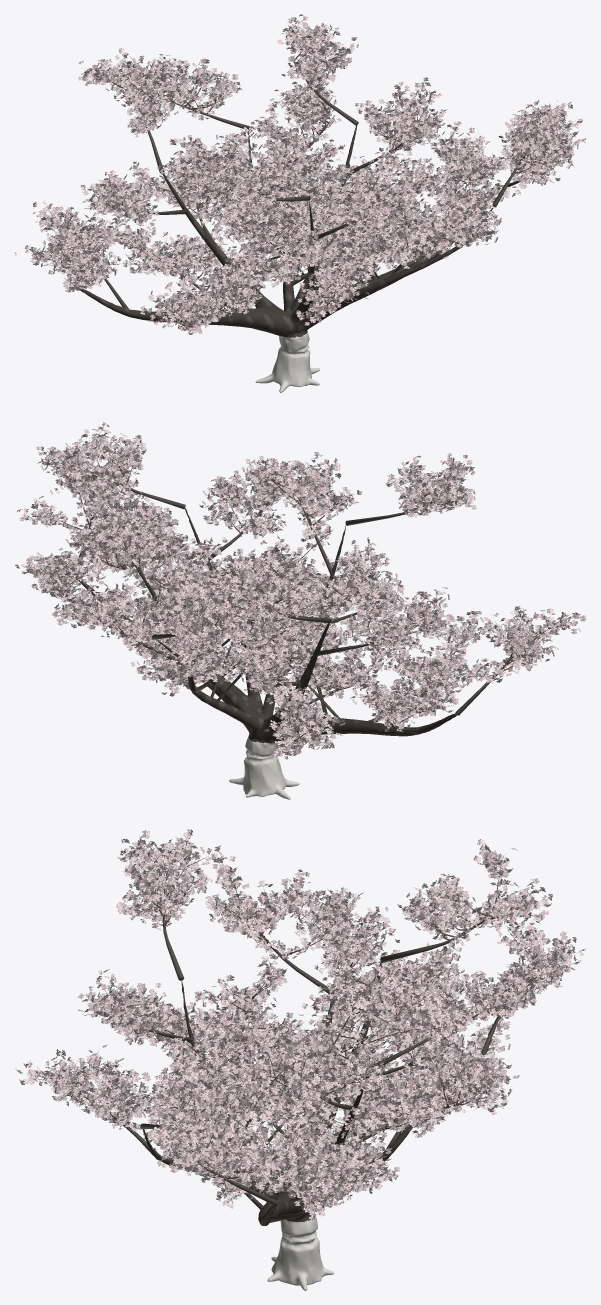
File: guanghua-cherry-far.glb
3 views of the same model, one above another, from view 1: azimuth 30°, elevation 25°; view 2: azimuth 150°, elevation 25°; view 3: azimuth 270°, elevation 25° (orthographic). The views are drawn at different scales.
Parts seen in each view (by area): view 1: V6 East spreading 01 leaves far, Spring cherry aged branching skeleton; view 2: V6 East spreading 01 leaves far, Spring cherry aged branching skeleton; view 3: V6 East spreading 01 leaves far, Spring cherry aged branching skeleton.
Boxes of the visible parts, left/top/right/bottom form: V6 East spreading 01 leaves far: left=14, top=14, right=585, bottom=334; Spring cherry aged branching skeleton: left=34, top=27, right=568, bottom=392; V6 East spreading 01 leaves far: left=15, top=422, right=585, bottom=759; Spring cherry aged branching skeleton: left=27, top=430, right=568, bottom=799; V6 East spreading 01 leaves far: left=15, top=829, right=585, bottom=1220; Spring cherry aged branching skeleton: left=30, top=846, right=568, bottom=1290.
Size of the model in its own units: 10.76 by 5.83 by 8.23.
7 materials, 3 textured.
